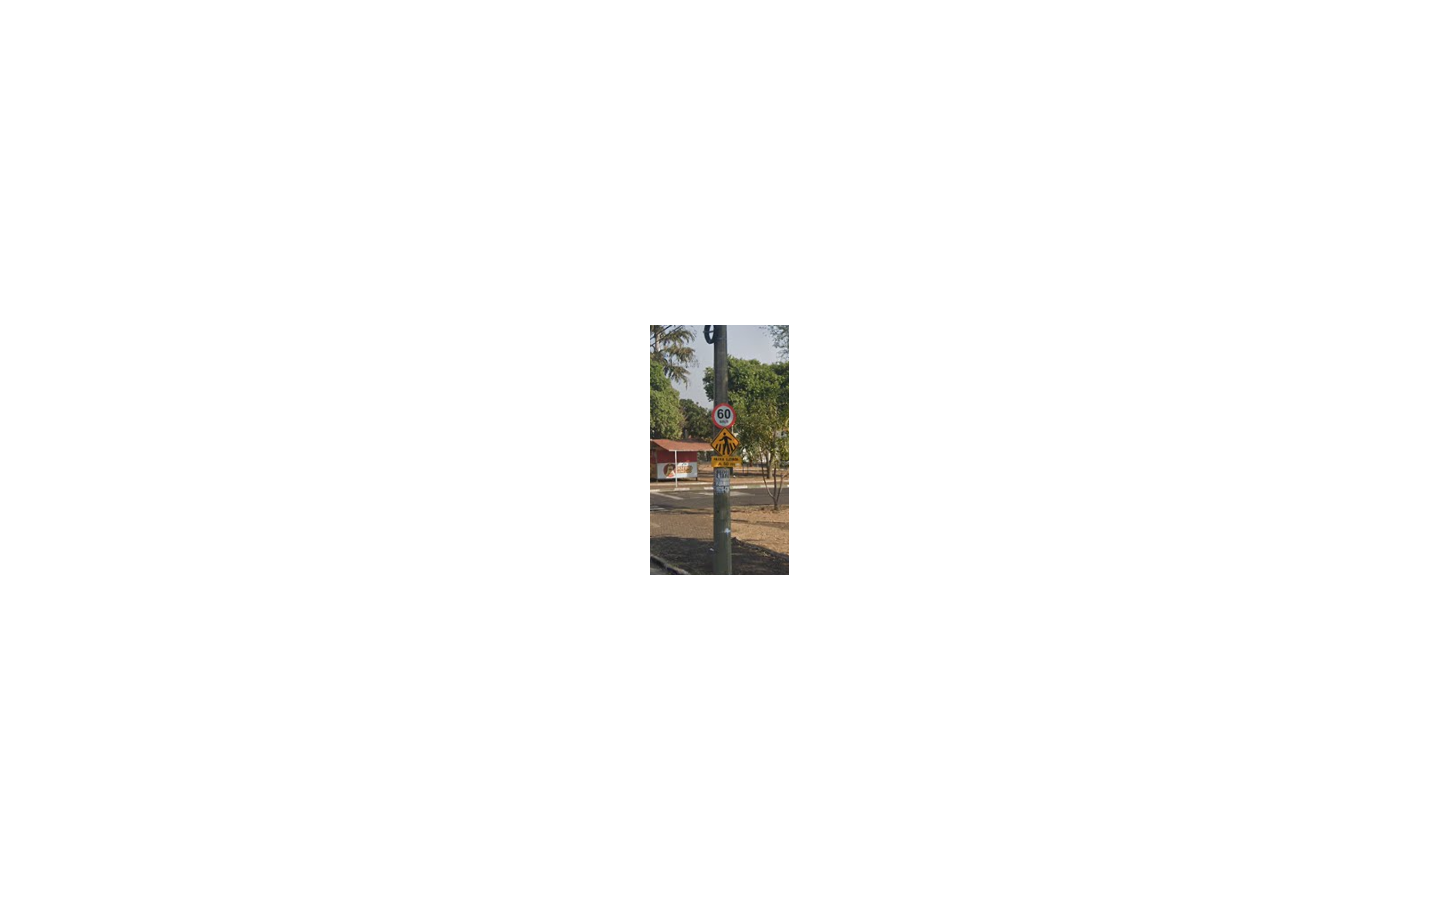t50m: (710, 426, 742, 467)
